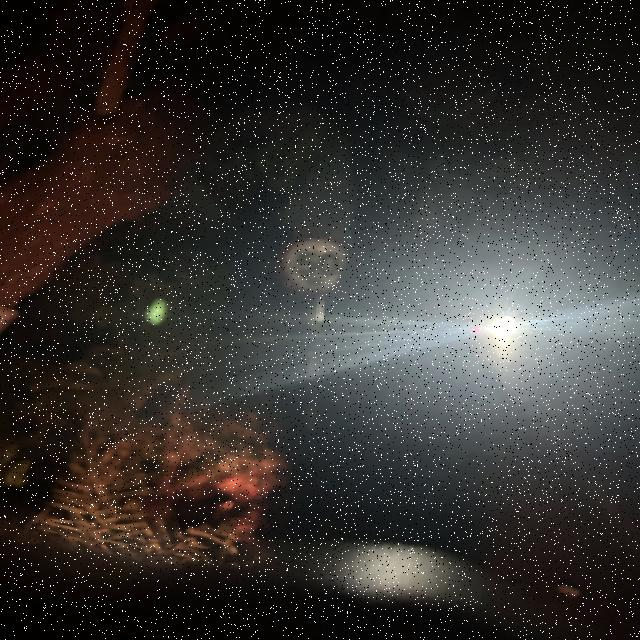speed_limit_50: (282, 237, 351, 294)
